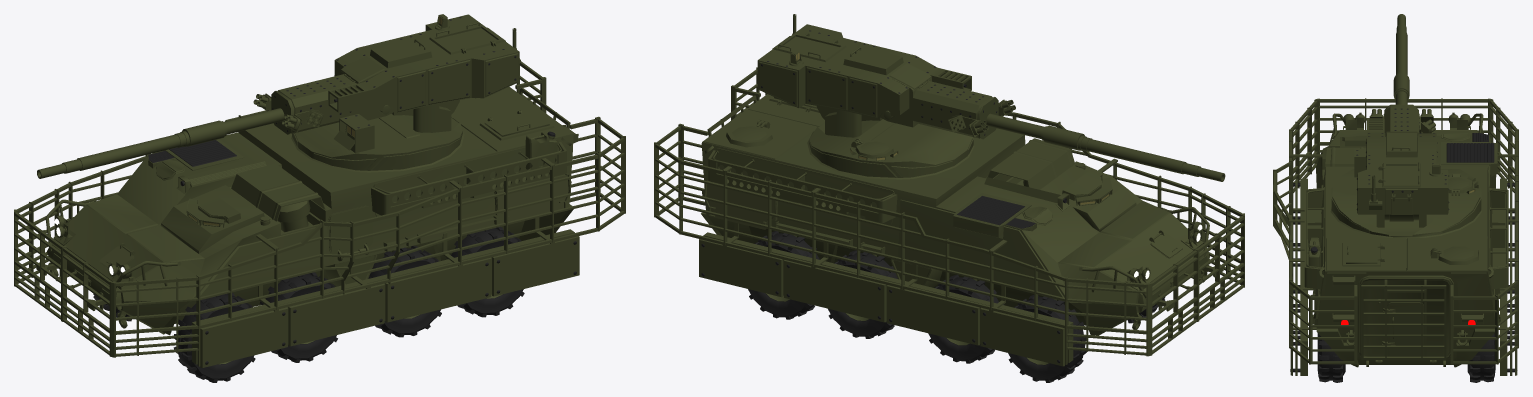
The model's file is STR-MGS (Olive Drab).fbx.
3 renders of one model, left to right at view 1: azimuth 30°, elevation 25°; view 2: azimuth 150°, elevation 25°; view 3: azimuth 270°, elevation 25°, orthographic. The views are drawn at different scales.
Visible parts, largest first — view 1: Hull.016, SlatArmor.006, MainGun.008, Ring.001, wheel.091, wheel.092, wheel.096, wheel.095; view 2: Hull.016, SlatArmor.006, MainGun.008, Ring.001, wheel.089, wheel.090, wheel.093, wheel.094; view 3: Hull.016, SlatArmor.006, MainGun.008, Ring.001, wheel.096, wheel.094.
Part boxes in pixels (x1,y1,x2,y2): Hull.016: (45,86,578,335); SlatArmor.006: (14,58,625,367); MainGun.008: (37,14,520,178); Ring.001: (292,104,462,170); wheel.091: (173,292,255,382); wheel.092: (259,272,337,362); wheel.096: (446,226,524,317); wheel.095: (368,245,441,337); Hull.016: (701,93,1209,335); SlatArmor.006: (654,67,1244,366); MainGun.008: (757,14,1225,181); Ring.001: (809,109,973,177); wheel.089: (1008,295,1086,382); wheel.090: (928,274,1004,363); wheel.093: (828,250,897,338); wheel.094: (748,231,820,319); Hull.016: (1304,112,1508,367); SlatArmor.006: (1273,98,1518,375); MainGun.008: (1356,14,1449,221); Ring.001: (1331,148,1481,237); wheel.096: (1317,333,1345,382); wheel.094: (1467,333,1495,382).
Bounding box in the file's own units: 833 × 379 × 375.
